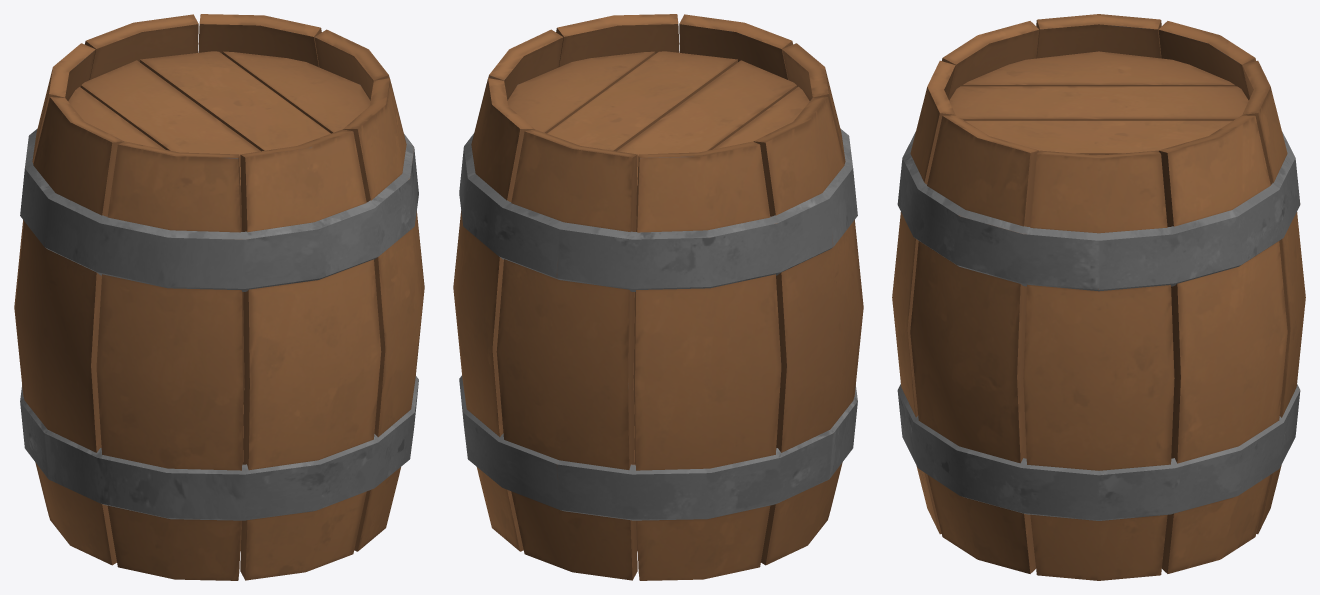
Rendered from FixedBarrel.fbx.
3 views of the same model, side by side, from view 1: azimuth 30°, elevation 25°; view 2: azimuth 150°, elevation 25°; view 3: azimuth 270°, elevation 25° (orthographic).
Visible parts, largest first — view 1: Cylinder.009, Cylinder.008, Cylinder.010, Cylinder.001, Cylinder.002, Cylinder.029, Cylinder.024, Cylinder.025, Cylinder.003, Cylinder.005, Cylinder, Cylinder.006 (+2 smaller); view 2: Cylinder.011, Cylinder, Cylinder.010, Cylinder.001, Cylinder.002, Cylinder.005, Cylinder.024, Cylinder.025, Cylinder.003, Cylinder.029, Cylinder.008, Cylinder.006 (+2 smaller); view 3: Cylinder.006, Cylinder.005, Cylinder.029, Cylinder.001, Cylinder.002, Cylinder.025, Cylinder.024, Cylinder.023, Cylinder, Cylinder.008, Cylinder.010, Cylinder.009 (+1 smaller).
Part boxes in pixels (x1,y1,x2,y2): Cylinder.009: (96, 141, 244, 580); Cylinder.008: (240, 129, 381, 580); Cylinder.010: (15, 97, 124, 565); Cylinder.001: (20, 128, 418, 291); Cylinder.002: (20, 376, 418, 520); Cylinder.029: (343, 78, 424, 551); Cylinder.024: (140, 51, 330, 151); Cylinder.025: (80, 60, 260, 215); Cylinder.003: (222, 51, 370, 133); Cylinder.005: (198, 14, 321, 387); Cylinder: (85, 14, 198, 79); Cylinder.006: (314, 29, 389, 100); Cylinder.011: (633, 141, 781, 580); Cylinder: (496, 129, 637, 580); Cylinder.010: (753, 97, 862, 565); Cylinder.001: (459, 128, 857, 291); Cylinder.002: (459, 375, 857, 520); Cylinder.005: (453, 78, 534, 551); Cylinder.024: (547, 51, 737, 151); Cylinder.025: (617, 60, 797, 215); Cylinder.003: (507, 51, 655, 133); Cylinder.029: (556, 14, 679, 387); Cylinder.008: (679, 14, 792, 79); Cylinder.006: (488, 29, 563, 100); Cylinder.006: (1023, 150, 1174, 580); Cylinder.005: (1158, 115, 1287, 573); Cylinder.029: (910, 115, 1039, 573); Cylinder.001: (897, 131, 1300, 291); Cylinder.002: (897, 384, 1300, 520); Cylinder.025: (949, 86, 1248, 120); Cylinder.024: (965, 120, 1232, 154); Cylinder.023: (962, 51, 1235, 86); Cylinder: (1242, 60, 1305, 534); Cylinder.008: (892, 60, 955, 534); Cylinder.010: (1036, 14, 1161, 58); Cylinder.009: (942, 21, 1039, 100).
Bounding box in the file's own units: 213 × 240 × 213.
Materials: 1 (1 with a texture image).
